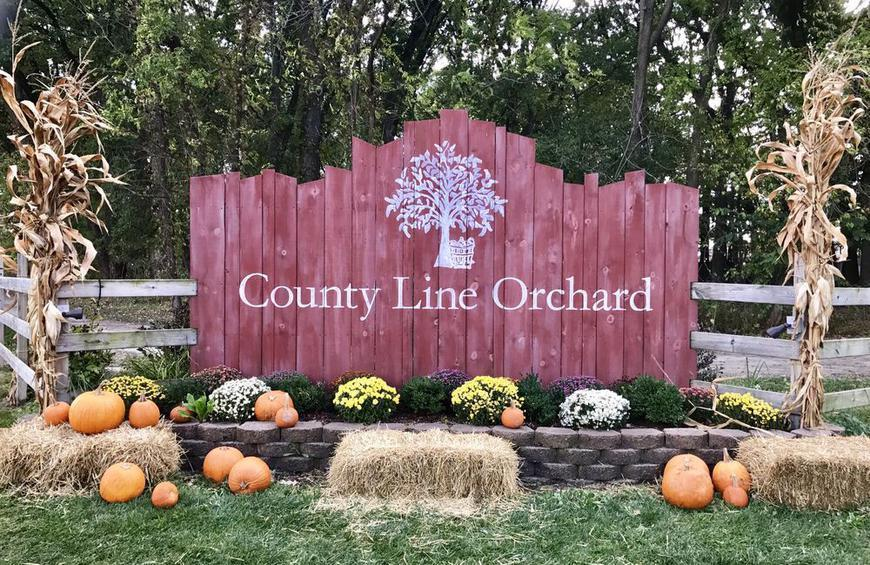apple: (500, 406, 523, 428)
